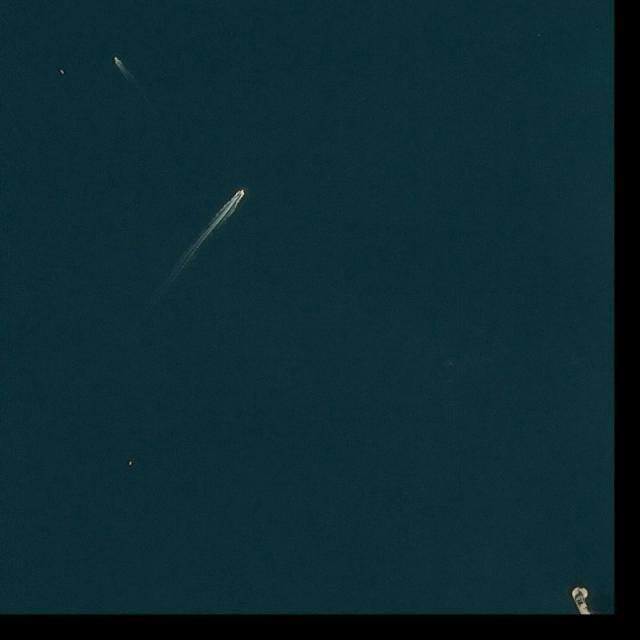ship: (238, 189, 246, 196), (59, 70, 66, 76), (114, 56, 119, 62), (129, 461, 133, 466)
